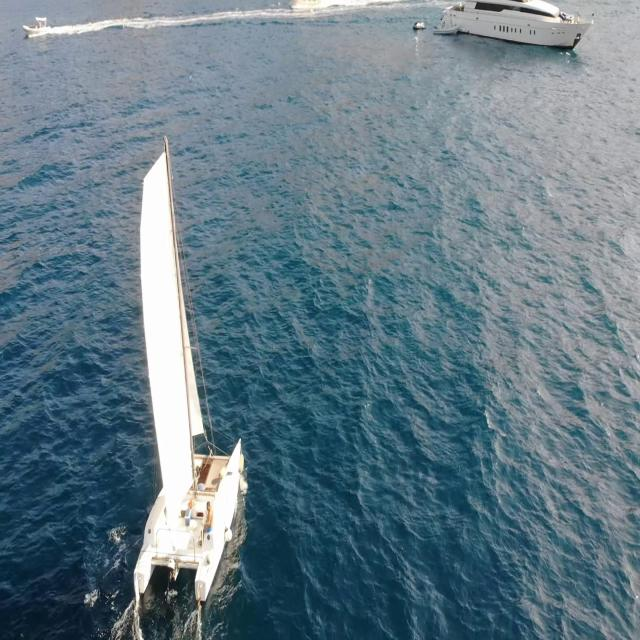boat: (439, 0, 597, 58), (22, 12, 50, 43), (432, 15, 460, 40), (412, 18, 427, 36)
sailboat: (116, 138, 244, 601)
